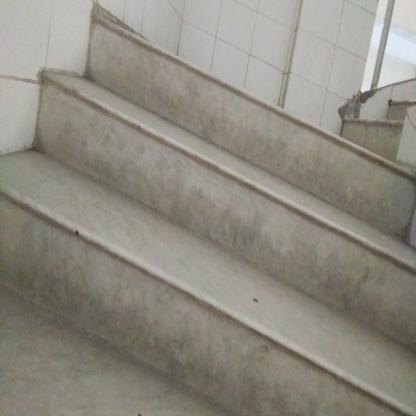stairs: (101, 126, 312, 416)
